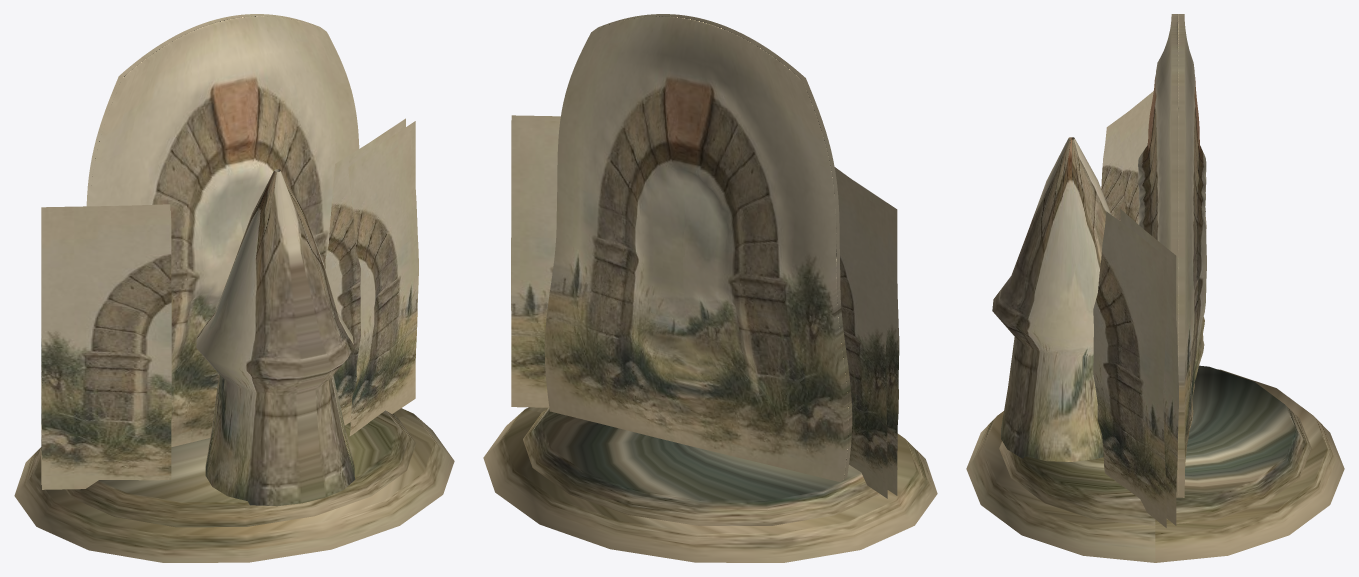
File: held-together-6.glb
3 views of the same model, side by side, from view 1: azimuth 30°, elevation 25°; view 2: azimuth 150°, elevation 25°; view 3: azimuth 270°, elevation 25° (orthographic). The views are drawn at different scales.
Parts seen in each view (by area): view 1: PaintingSculptureMonument; view 2: PaintingSculptureMonument; view 3: PaintingSculptureMonument.
Boxes of the visible parts, box(x1,y1,x2,y2) form: PaintingSculptureMonument: box(14, 14, 454, 562); PaintingSculptureMonument: box(483, 14, 937, 562); PaintingSculptureMonument: box(966, 14, 1344, 562).
Size of the model in its own units: 2.76 by 2.99 by 2.35.
1 material, 1 textured.
